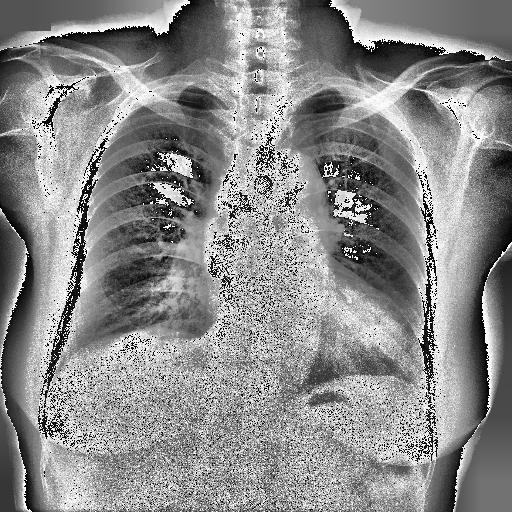0- Aortic enlargement: (250, 150, 328, 254), (261, 150, 327, 216), (276, 146, 330, 224)
3- Cardiomegaly: (204, 274, 410, 378), (206, 296, 414, 391), (204, 290, 419, 370)
